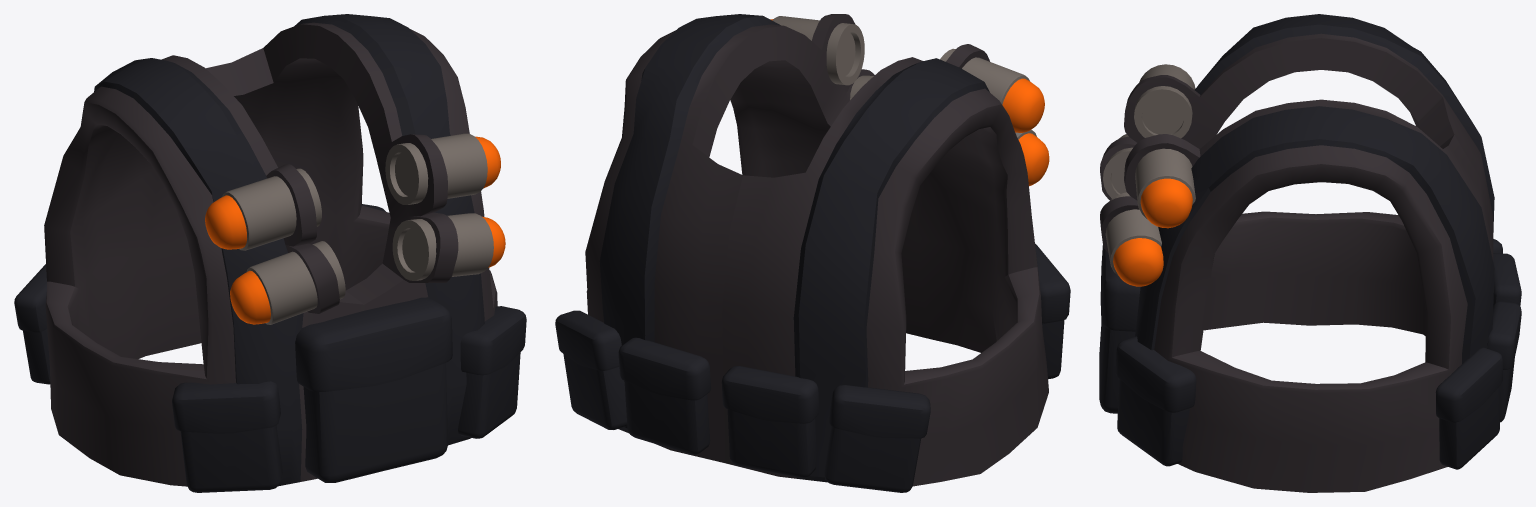
Rendered from Vest2.fbx.
The picture shows the model from 3 angles, left to right: view 1: azimuth 30°, elevation 25°; view 2: azimuth 150°, elevation 25°; view 3: azimuth 270°, elevation 25°; orthographic projection. The views are drawn at different scales.
Visible parts, largest first — view 1: Cube.006; view 2: Cube.006; view 3: Cube.006.
Boxes of the visible parts, bbox=[...] form: Cube.006: bbox=[14, 14, 526, 492]; Cube.006: bbox=[555, 14, 1070, 492]; Cube.006: bbox=[1099, 14, 1521, 492].
Bounding box in the file's own units: 172 × 153 × 172.
